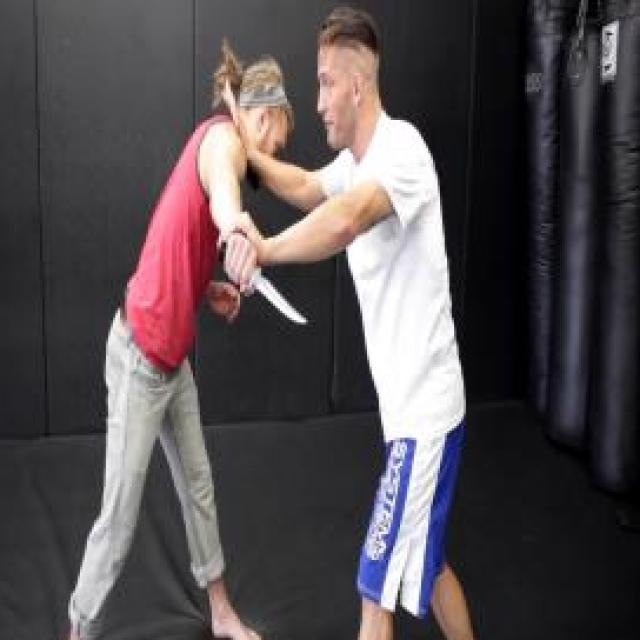knife: (217, 238, 316, 338)
